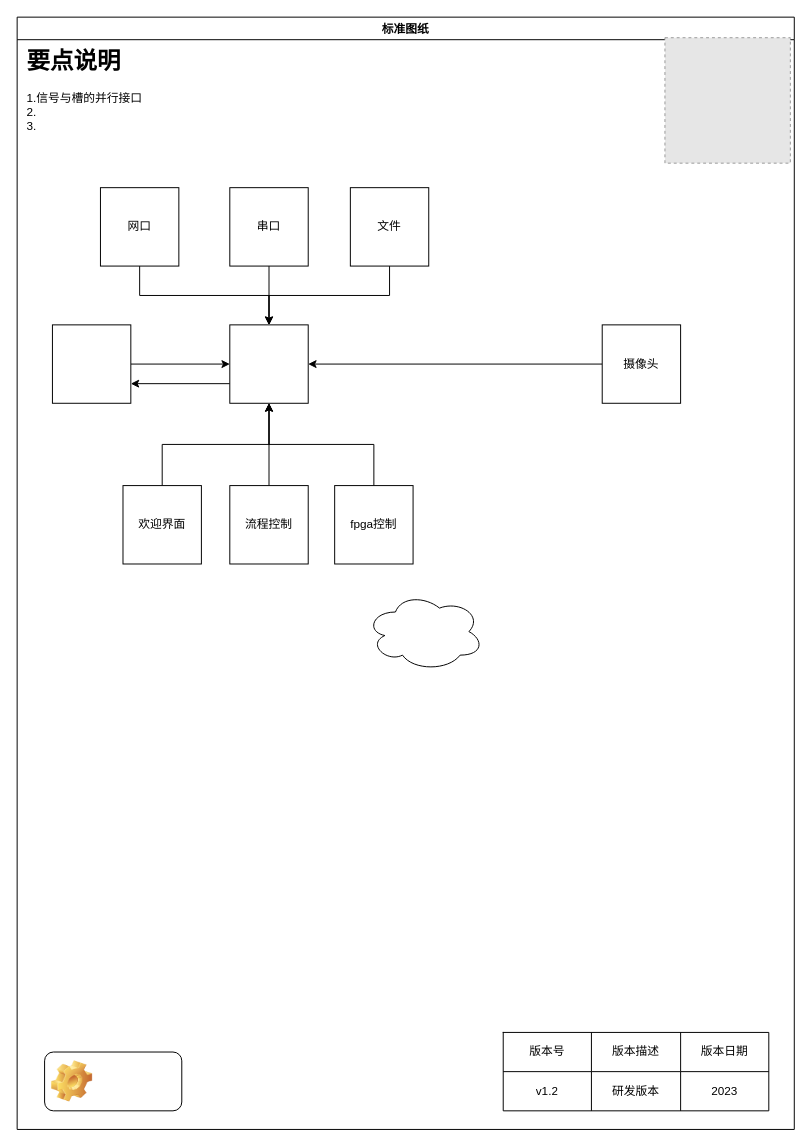
This 811x1147 diagram has some shape labels left out. Grey dashed boxes stand in for pictures. Here are the shapes that lost their labels. From the top down, the centre of each, then its label:
At point 91,363: "用户".
At point 268,363: "主界面".
At point 424,631: "后续需要拓展支持到多块FPGA，下一版本框架需要考虑的事".
At point 113,1081: "FpgaPublish".
